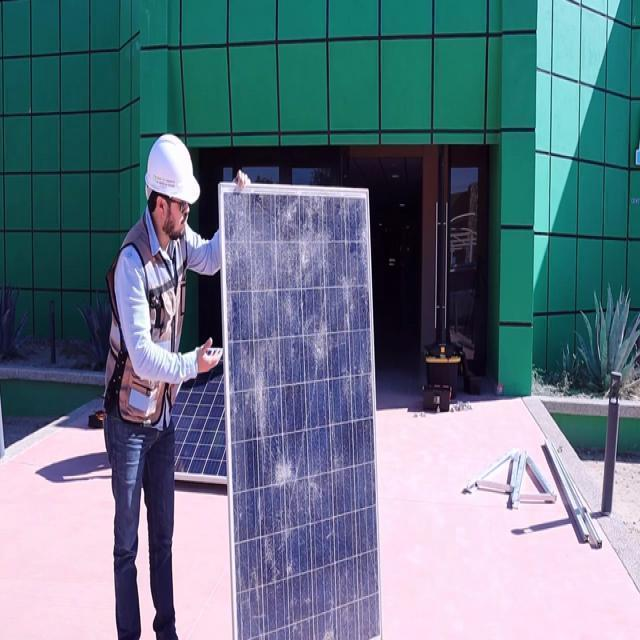Anomaly Solar Panel: (222, 194, 381, 638)
Normal Solar Panel: (172, 366, 226, 485)
Surface Contaminant: (228, 198, 378, 635)
